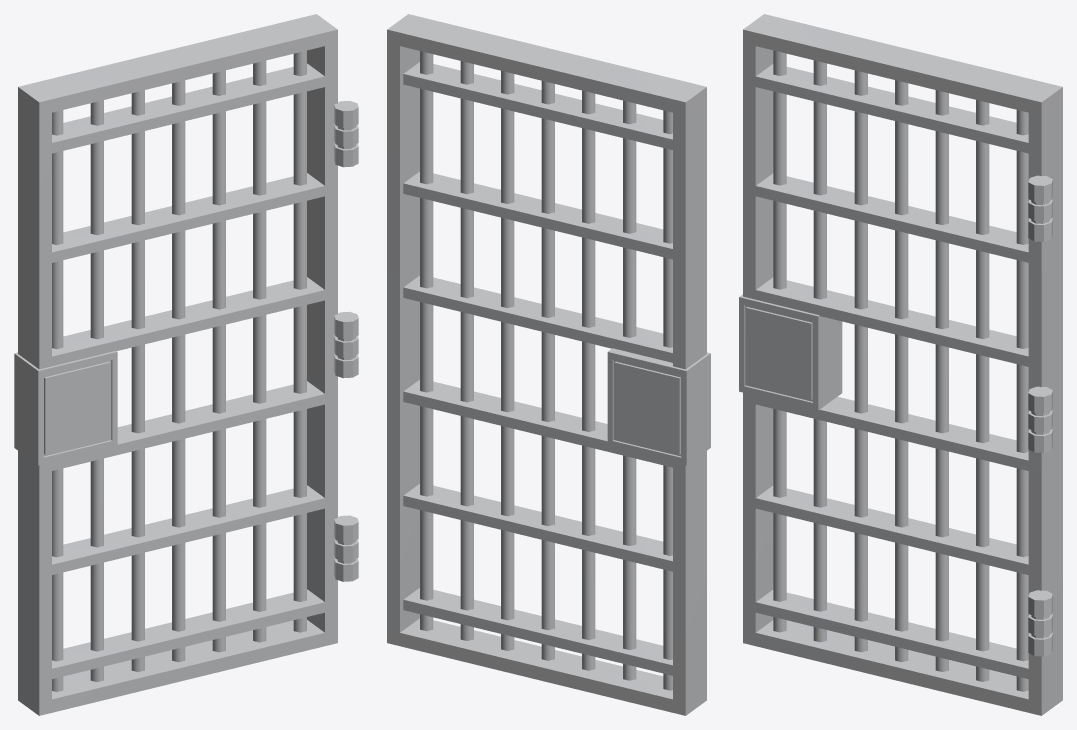
Rendered from SM_Buildings_DoubleDoorDoor_02.fbx.
3 views of the same model, side by side, from view 1: azimuth 30°, elevation 25°; view 2: azimuth 150°, elevation 25°; view 3: azimuth 330°, elevation 25° (orthographic).
Parts seen in each view (by area): view 1: SM_Buildings_DoubleDoorDoor_02; view 2: SM_Buildings_DoubleDoorDoor_02; view 3: SM_Buildings_DoubleDoorDoor_02.
Boxes of the visible parts, x1,y1,x2,y2 form: SM_Buildings_DoubleDoorDoor_02: [14, 14, 358, 715]; SM_Buildings_DoubleDoorDoor_02: [387, 14, 710, 715]; SM_Buildings_DoubleDoorDoor_02: [739, 14, 1062, 715].
Size of the model in its own units: 106 by 196 by 19.68.
1 material, 1 textured.
